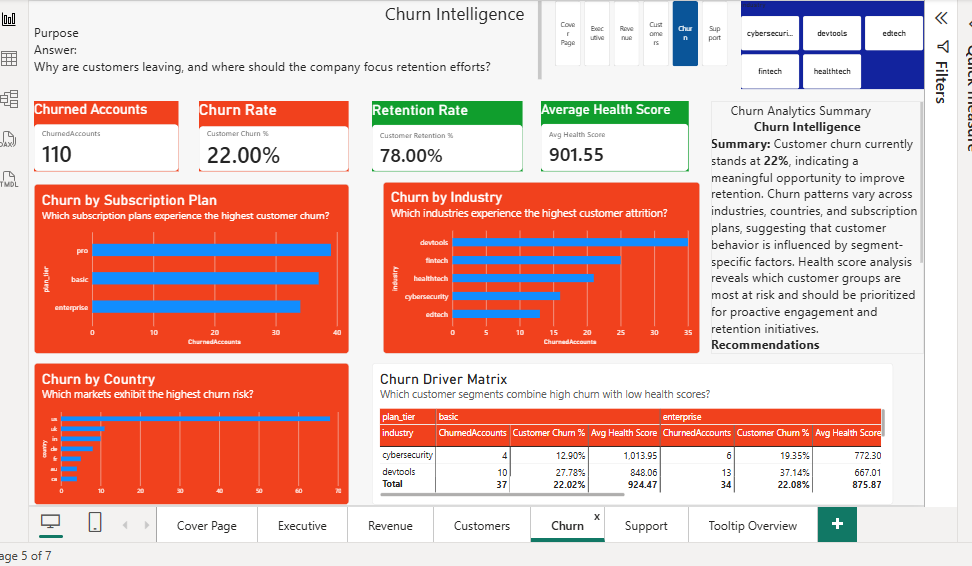

The dashboard page shown, as its layout file describes it:
{"tool":"powerbi","page":{"name":"Churn","canvas":[1920,1080],"ordinal":4},"visuals":[{"type":"textbox","box":[10.6,0,1088.5,172.2],"z":0},{"type":"cardVisual","title":"Churned Accounts","fields":{"Data":["dim_accounts.ChurnedAccounts"]},"box":[10.6,214.7,310.4,150.9],"z":1000},{"type":"cardVisual","title":"Churn Rate","fields":{"Data":["dim_accounts.Customer Churn %"]},"box":[365.7,214.7,321,150.9],"z":2000},{"type":"cardVisual","title":"Retention Rate","fields":{"Data":["dim_accounts.Customer Retention %"]},"box":[735.6,214.7,323.1,150.9],"z":3000},{"type":"cardVisual","title":"Average Health Score","fields":{"Data":["DimDate.Avg Health Score"]},"box":[1099.1,214.7,316.8,150.9],"z":4000},{"type":"clusteredBarChart","title":"Churn by Subscription Plan","fields":{"Category":["fct_customer_health.plan_tier"],"Y":["dim_accounts.ChurnedAccounts"]},"box":[10.6,393.3,676.1,363.5],"z":5000},{"type":"clusteredBarChart","title":"Churn by Industry","fields":{"Category":["fct_customer_health.industry"],"Y":["dim_accounts.ChurnedAccounts"]},"box":[759,389.1,680.3,367.8],"z":6000},{"type":"clusteredBarChart","title":"Churn by Country","fields":{"Category":["fct_customer_health.country"],"Y":["dim_accounts.ChurnedAccounts"]},"box":[10.6,776,676.1,304],"z":7000},{"type":"pivotTable","title":"Churn Driver Matrix","fields":{"Columns":["fct_customer_health.plan_tier"],"Rows":["fct_customer_health.industry"],"Values":["dim_accounts.ChurnedAccounts","dim_accounts.Customer Churn %","DimDate.Avg Health Score"]},"box":[735.6,776,1118.3,304],"z":8000},{"type":"textbox","box":[1462.7,214.7,457.1,542.1],"z":9000},{"type":"pageNavigator","box":[1128.9,0,372,140.3],"z":10000},{"type":"advancedSlicerVisual","fields":{"Values":["dim_accounts.industry"]},"box":[1526.5,0,393.3,189.2],"z":10001}]}

Visuals, with their boxes on the page's 1920x1080 design canvas (x1, y1, x2, y2). These are canvas units, not pixel positions in the 972x566 screenshot, which may show the page scaled, cropped or inside an application window:
textbox: bbox=(11, 0, 1099, 172)
"Churned Accounts" cardVisual: bbox=(11, 215, 321, 366)
"Churn Rate" cardVisual: bbox=(366, 215, 687, 366)
"Retention Rate" cardVisual: bbox=(736, 215, 1059, 366)
"Average Health Score" cardVisual: bbox=(1099, 215, 1416, 366)
"Churn by Subscription Plan" clusteredBarChart: bbox=(11, 393, 687, 757)
"Churn by Industry" clusteredBarChart: bbox=(759, 389, 1439, 757)
"Churn by Country" clusteredBarChart: bbox=(11, 776, 687, 1080)
"Churn Driver Matrix" pivotTable: bbox=(736, 776, 1854, 1080)
textbox: bbox=(1463, 215, 1920, 757)
pageNavigator: bbox=(1129, 0, 1501, 140)
advancedSlicerVisual - dim_accounts.industry: bbox=(1526, 0, 1920, 189)
